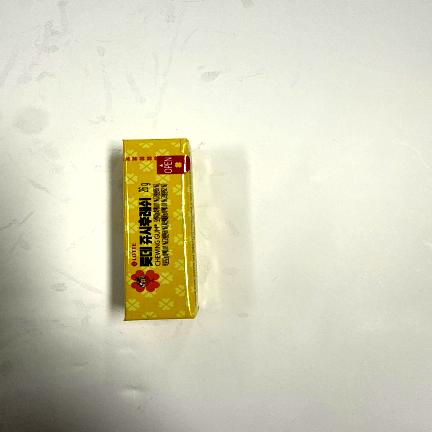gum_yellow: (124, 137, 197, 321)
